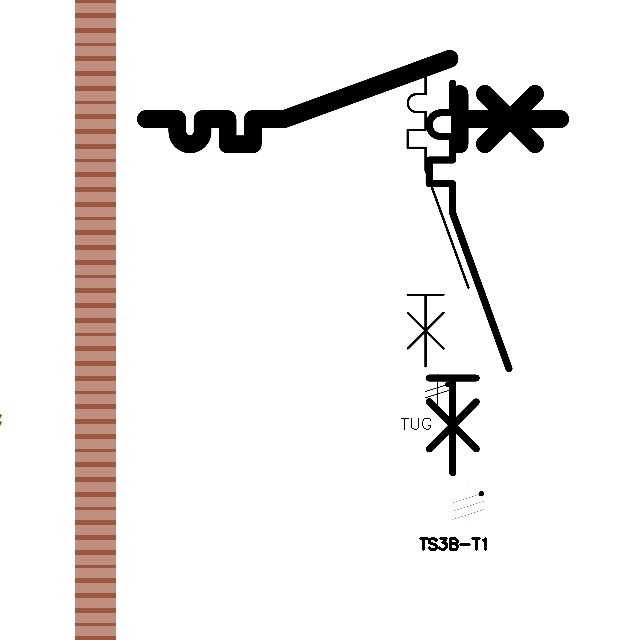interruptor_termomagnetico: (135, 48, 571, 155), (419, 73, 519, 483), (400, 64, 476, 374)
